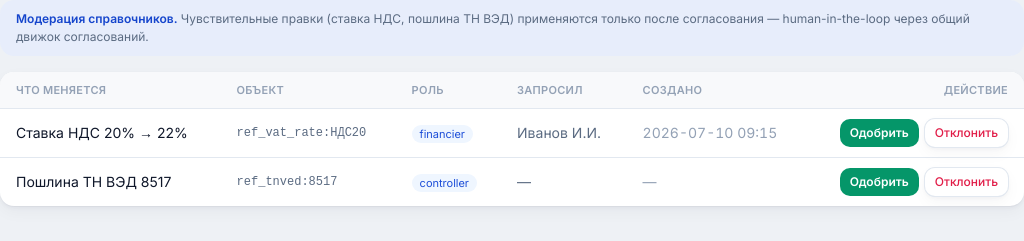
it: SpravAdmin › ошибка сервера/нет права: строка остаётся в очереди и показывается текст ошибки
Click the button "Одобрить" in the row of "Ставка НДС 20% → 22%" at point(879, 133), box [840,119,919,147]
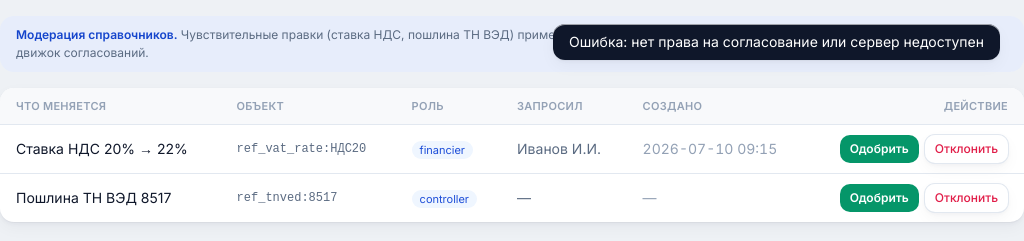
Expected: the text "Ставка НДС 20% → 22%" is shown, [0,124,221,174]
Result: the text "Ошибка: нет права на согласование или сервер недоступен" is shown at [553,24,1000,60]
